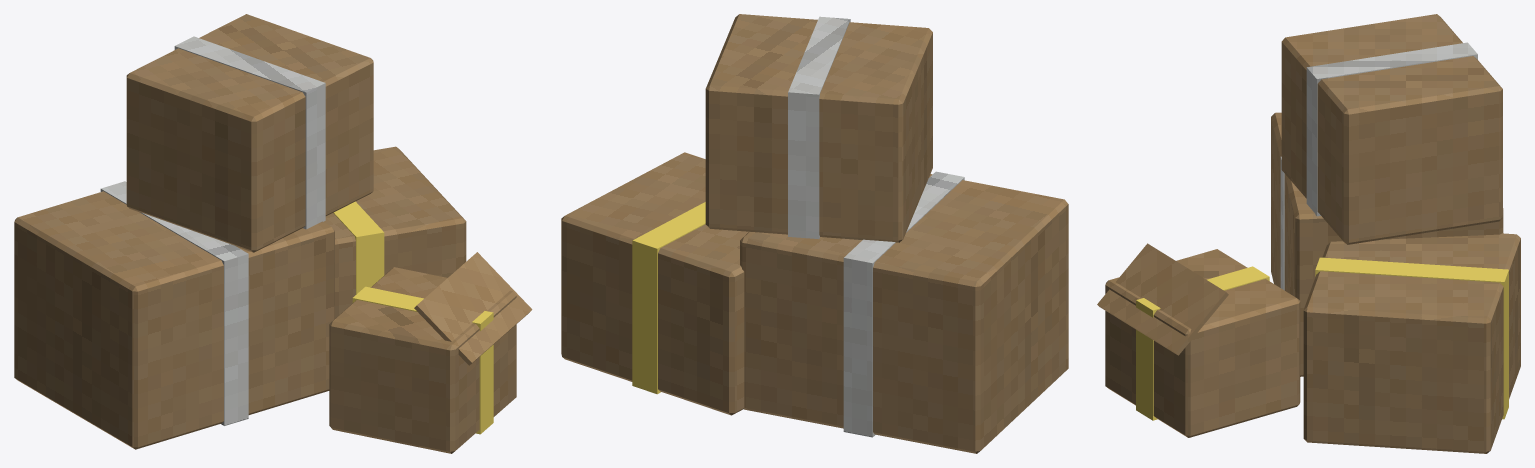
File: box_pile.glb
3 views of the same model, side by side, from view 1: azimuth 30°, elevation 25°; view 2: azimuth 150°, elevation 25°; view 3: azimuth 270°, elevation 25° (orthographic). The views are drawn at different scales.
Visible parts, largest first — view 1: body; view 2: body; view 3: body.
Boxes of the visible parts, bbox=[...] form: body: bbox=[14, 14, 532, 453]; body: bbox=[561, 14, 1068, 453]; body: bbox=[1097, 14, 1520, 453].
Bounding box in the file's own units: 0.9038 × 0.664 × 0.8503.
3 materials, 2 textured.
